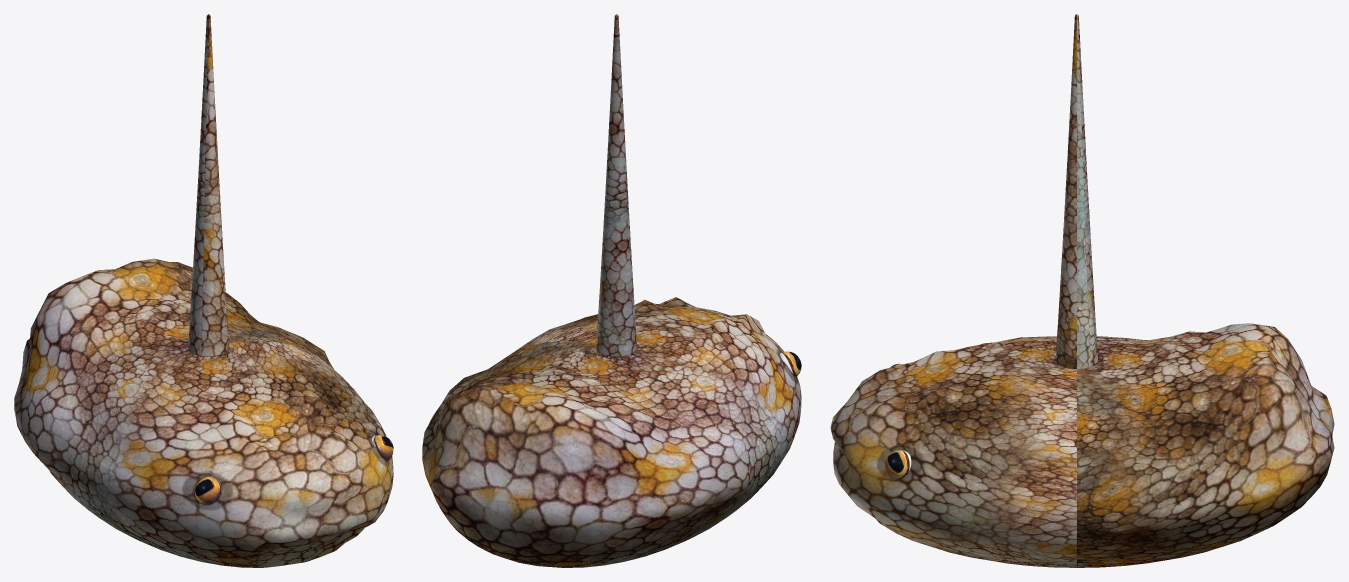
Rendered from kraken.glb.
3 renders of one model, left to right at view 1: azimuth 30°, elevation 25°; view 2: azimuth 150°, elevation 25°; view 3: azimuth 270°, elevation 25°, orthographic. The views are drawn at different scales.
Parts seen in each view (by area): view 1: corps, bras, oeil_droit; view 2: corps, bras; view 3: corps, bras, oeil_droit.
Boxes of the visible parts, x1,y1,x2,y2 form: corps: (14, 258, 393, 567); bras: (188, 14, 228, 356); oeil_droit: (194, 435, 393, 504); corps: (422, 297, 801, 567); bras: (596, 14, 636, 356); corps: (830, 323, 1334, 567); bras: (1055, 14, 1097, 368); oeil_droit: (885, 363, 911, 479).
Size of the model in its own units: 11.84 by 19.47 by 16.76.
1 material, 1 textured.
